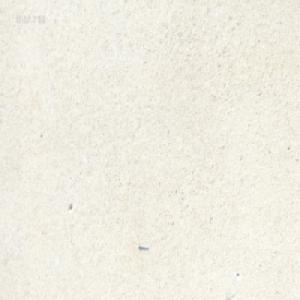Nail: (138, 244, 148, 251)
